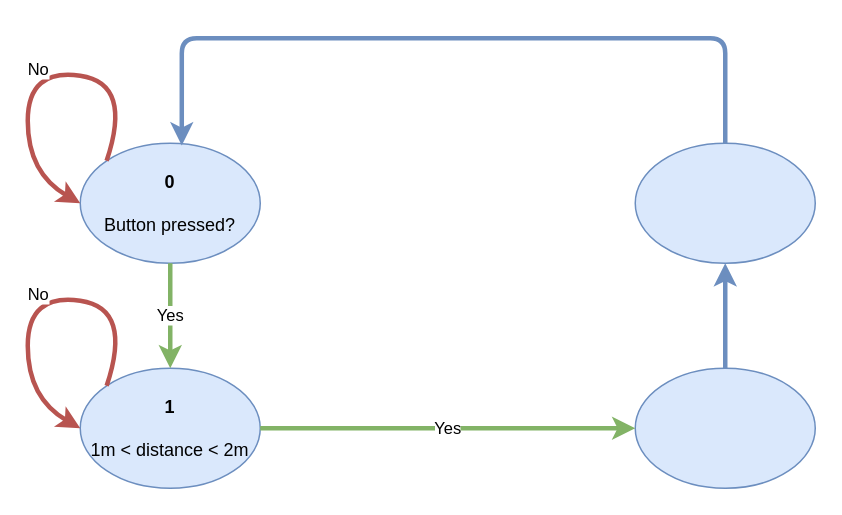
This 842x515 diagram has some shape labels left out. The box of each missing label's shape, as (x1, y1, x2, y2) in pixels:
2 Run countdown: (634, 367, 815, 488)
3 Take picture: (634, 142, 815, 263)
